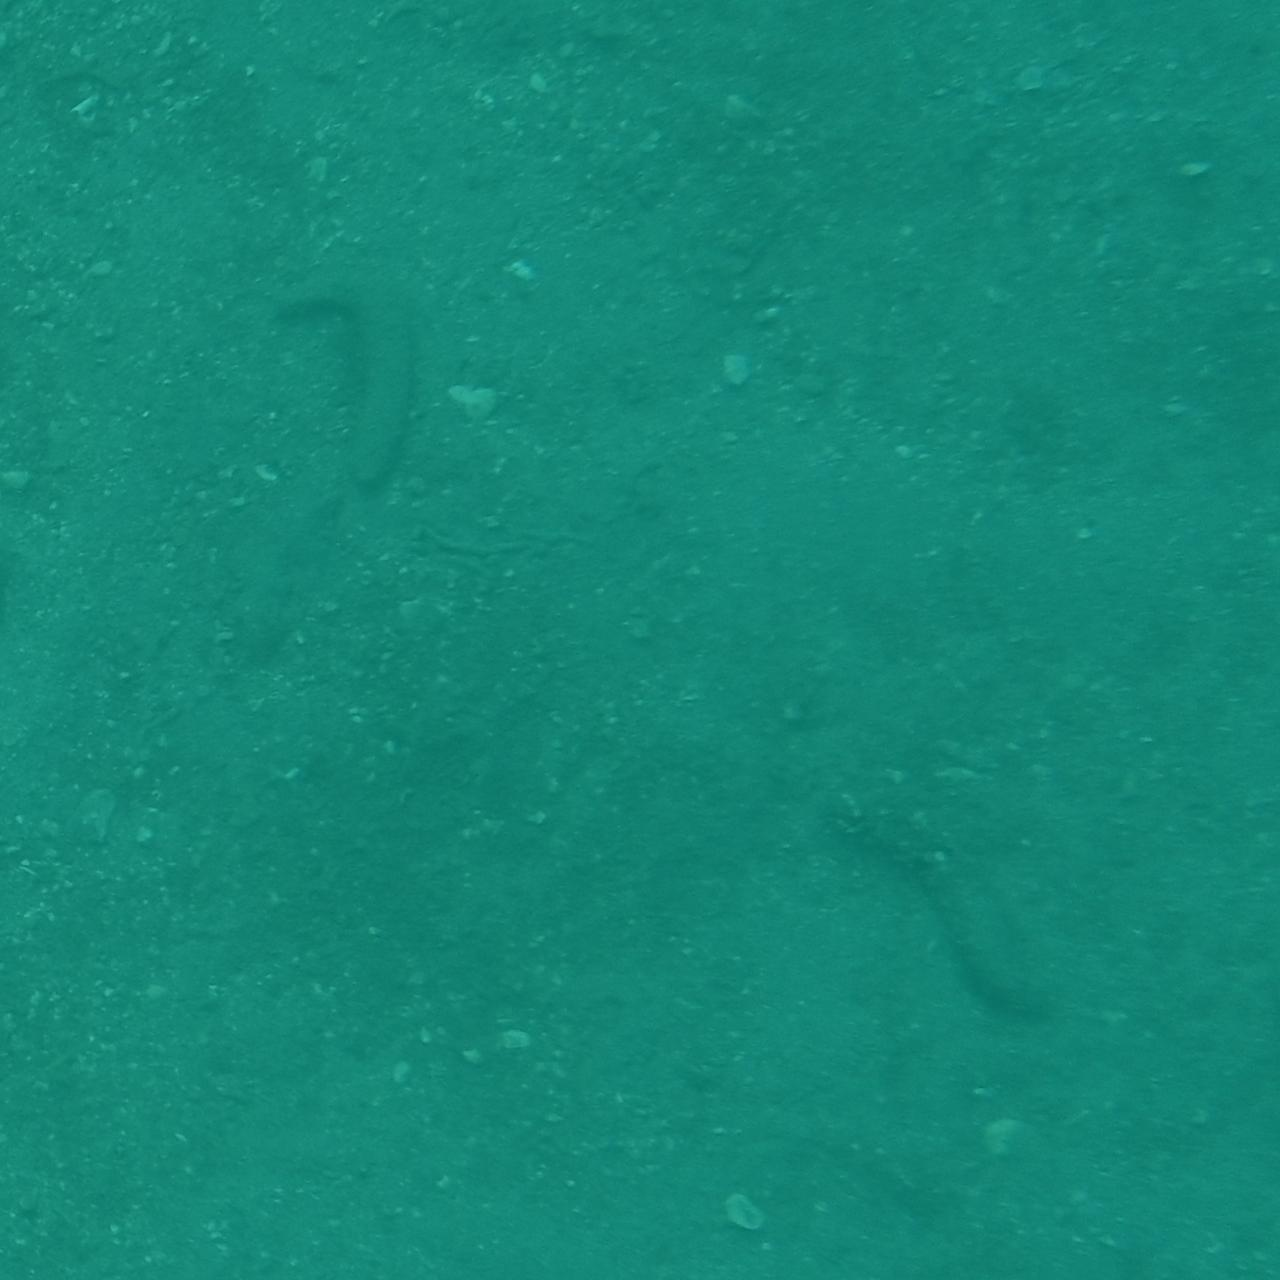Holothuria tubulosa: (810, 762, 1065, 1039), (253, 248, 433, 513)
